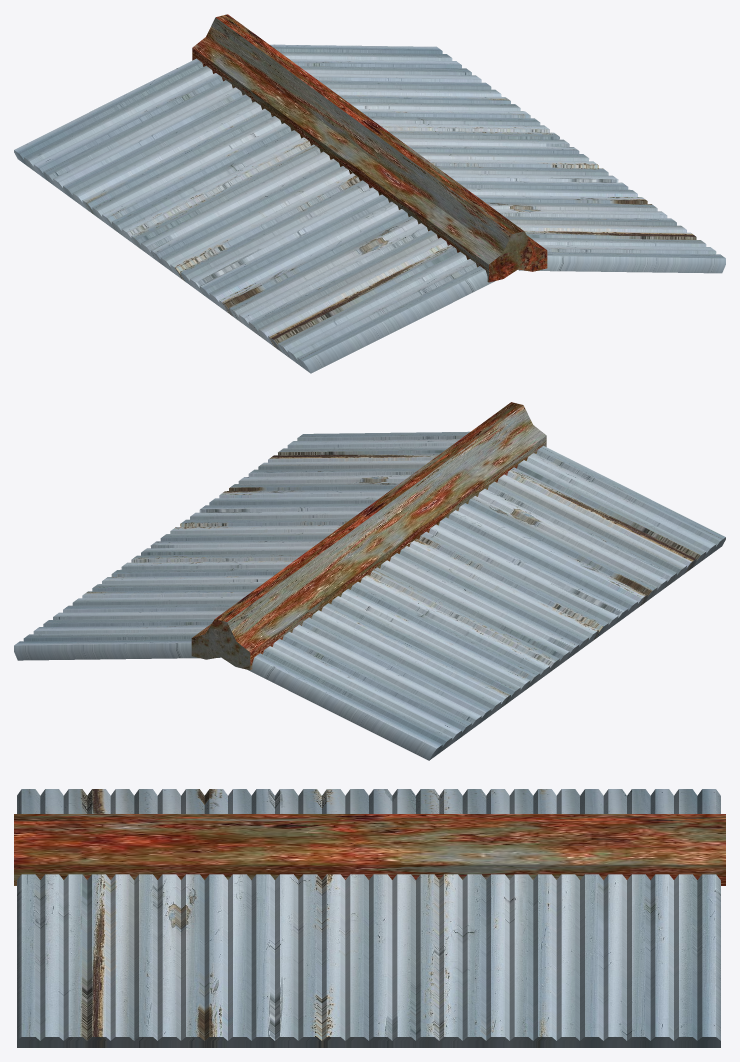
The model's file is ROOF.fbx.
3 views of the same model, one above another, from view 1: azimuth 30°, elevation 25°; view 2: azimuth 150°, elevation 25°; view 3: azimuth 270°, elevation 25° (orthographic). The views are drawn at different scales.
Parts seen in each view (by area): view 1: pPlane1, pPlane2, pPlane3; view 2: pPlane1, pPlane2, pPlane3; view 3: pPlane2, pPlane3, pPlane1.
Boxes of the visible parts, bbox=[...] form: pPlane1: bbox=[14, 58, 495, 373]; pPlane2: bbox=[270, 44, 725, 273]; pPlane3: bbox=[192, 14, 547, 282]; pPlane1: bbox=[248, 446, 725, 760]; pPlane2: bbox=[14, 431, 470, 660]; pPlane3: bbox=[191, 402, 546, 670]; pPlane2: bbox=[17, 874, 720, 1047]; pPlane3: bbox=[14, 814, 725, 885]; pPlane1: bbox=[17, 789, 720, 813].
Bounding box in the file's own units: 7.16 × 1.48 × 8.7.
2 materials, 2 textured.
